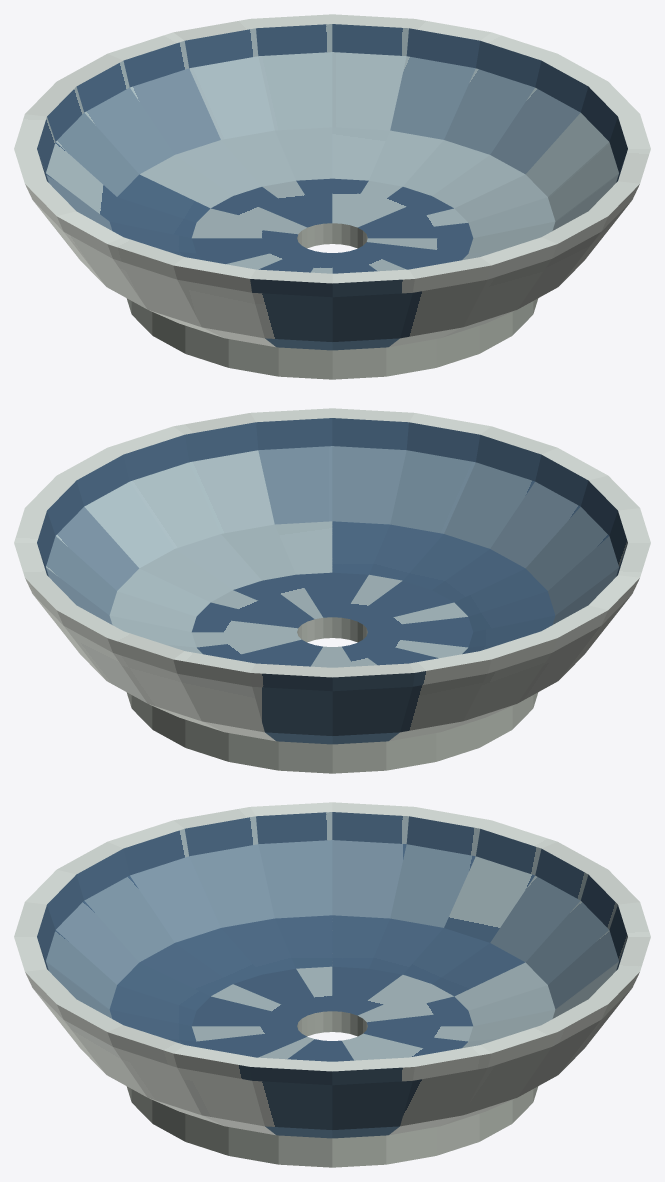
Rendered from antique-nabeshima-dish.glb.
3 renders of one model, top to bottom at view 1: azimuth 30°, elevation 25°; view 2: azimuth 150°, elevation 25°; view 3: azimuth 270°, elevation 25°, orthographic.
Parts seen in each view (by area): view 1: antique-nabeshima-dish/ceramic-inner-wall-6, antique-nabeshima-dish/ceramic-inner-lower-7, antique-nabeshima-dish/ceramic-outer-mid-2, antique-nabeshima-dish/ceramic-inner-floor-8, antique-nabeshima-dish/ceramic-rim-4, antique-nabeshima-dish/ceramic-inner-upper-5, antique-nabeshima-dish/ceramic-foot-outer-1, antique-nabeshima-dish/ceramic-outer-upper-3, antique-nabeshima-dish/ceramic-outer-lower-1, antique-nabeshima-dish/ceramic-drainage-wall-9; view 2: antique-nabeshima-dish/ceramic-inner-wall-6, antique-nabeshima-dish/ceramic-inner-lower-7, antique-nabeshima-dish/ceramic-outer-mid-2, antique-nabeshima-dish/ceramic-inner-floor-8, antique-nabeshima-dish/ceramic-rim-4, antique-nabeshima-dish/ceramic-inner-upper-5, antique-nabeshima-dish/ceramic-foot-outer-1, antique-nabeshima-dish/ceramic-outer-upper-3, antique-nabeshima-dish/ceramic-outer-lower-1, antique-nabeshima-dish/ceramic-drainage-wall-9; view 3: antique-nabeshima-dish/ceramic-inner-wall-6, antique-nabeshima-dish/ceramic-inner-lower-7, antique-nabeshima-dish/ceramic-outer-mid-2, antique-nabeshima-dish/ceramic-inner-floor-8, antique-nabeshima-dish/ceramic-rim-4, antique-nabeshima-dish/ceramic-inner-upper-5, antique-nabeshima-dish/ceramic-foot-outer-1, antique-nabeshima-dish/ceramic-outer-upper-3, antique-nabeshima-dish/ceramic-outer-lower-1, antique-nabeshima-dish/ceramic-drainage-wall-9.
Part boxes in pixels (box(x1,y1,x2,y2)): antique-nabeshima-dish/ceramic-inner-wall-6: box(46, 52, 618, 230); antique-nabeshima-dish/ceramic-inner-lower-7: box(109, 127, 555, 260); antique-nabeshima-dish/ceramic-outer-mid-2: box(33, 201, 631, 341); antique-nabeshima-dish/ceramic-inner-floor-8: box(191, 178, 473, 273); antique-nabeshima-dish/ceramic-rim-4: box(14, 14, 650, 283); antique-nabeshima-dish/ceramic-inner-upper-5: box(37, 24, 627, 182); antique-nabeshima-dish/ceramic-foot-outer-1: box(126, 298, 538, 379); antique-nabeshima-dish/ceramic-outer-upper-3: box(25, 184, 639, 297); antique-nabeshima-dish/ceramic-outer-lower-1: box(149, 310, 515, 350); antique-nabeshima-dish/ceramic-drainage-wall-9: box(297, 223, 367, 248); antique-nabeshima-dish/ceramic-inner-wall-6: box(46, 446, 618, 624); antique-nabeshima-dish/ceramic-inner-lower-7: box(109, 521, 555, 654); antique-nabeshima-dish/ceramic-outer-mid-2: box(33, 595, 631, 735); antique-nabeshima-dish/ceramic-inner-floor-8: box(191, 572, 473, 667); antique-nabeshima-dish/ceramic-rim-4: box(14, 408, 650, 677); antique-nabeshima-dish/ceramic-inner-upper-5: box(37, 418, 627, 576); antique-nabeshima-dish/ceramic-foot-outer-1: box(126, 692, 538, 773); antique-nabeshima-dish/ceramic-outer-upper-3: box(25, 578, 639, 691); antique-nabeshima-dish/ceramic-outer-lower-1: box(149, 704, 515, 744); antique-nabeshima-dish/ceramic-drainage-wall-9: box(297, 617, 367, 642); antique-nabeshima-dish/ceramic-inner-wall-6: box(46, 840, 618, 1018); antique-nabeshima-dish/ceramic-inner-lower-7: box(109, 915, 555, 1048); antique-nabeshima-dish/ceramic-outer-mid-2: box(33, 989, 631, 1129); antique-nabeshima-dish/ceramic-inner-floor-8: box(191, 966, 473, 1061); antique-nabeshima-dish/ceramic-rim-4: box(14, 802, 650, 1071); antique-nabeshima-dish/ceramic-inner-upper-5: box(37, 812, 627, 970); antique-nabeshima-dish/ceramic-foot-outer-1: box(126, 1086, 538, 1167); antique-nabeshima-dish/ceramic-outer-upper-3: box(25, 972, 639, 1085); antique-nabeshima-dish/ceramic-outer-lower-1: box(149, 1098, 515, 1138); antique-nabeshima-dish/ceramic-drainage-wall-9: box(297, 1011, 367, 1036).
Bounding box in the file's own units: 0.5625 × 0.1393 × 0.5625.
4 materials, 4 textured.
